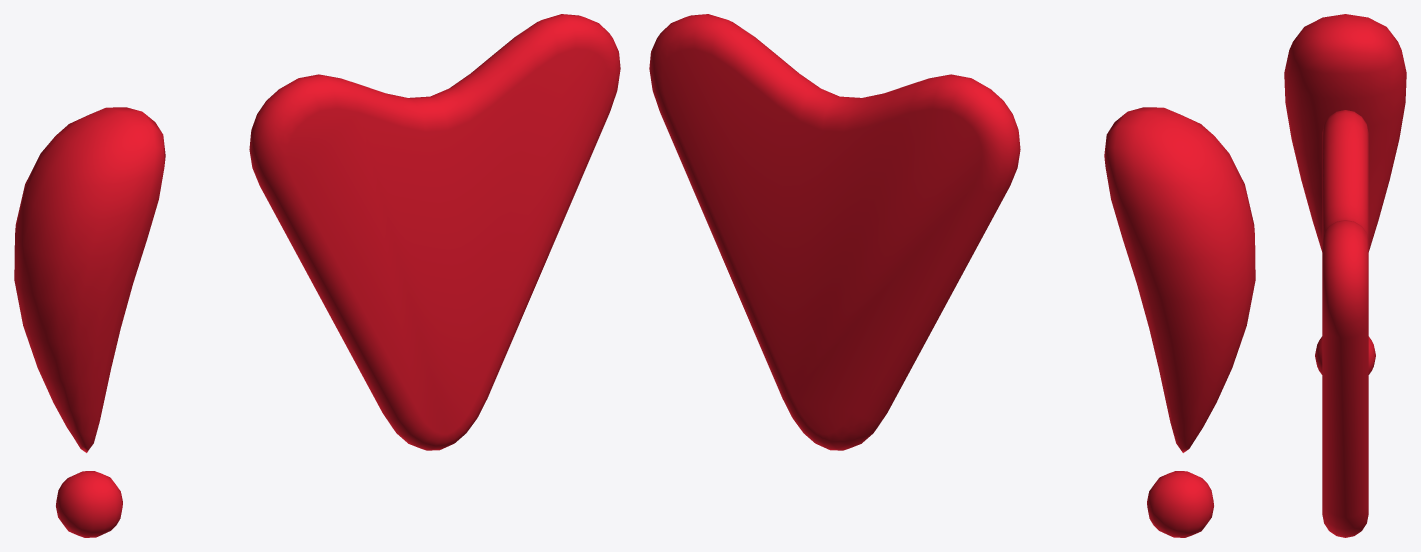
The model's file is Waiting Marks.fbx.
The picture shows the model from 3 angles, left to right: view 1: azimuth 30°, elevation 25°; view 2: azimuth 150°, elevation 25°; view 3: azimuth 270°, elevation 25°; orthographic projection. The views are drawn at different scales.
Visible parts, largest first — view 1: Arrow Mark, Exclamation Mark; view 2: Arrow Mark, Exclamation Mark; view 3: Arrow Mark, Exclamation Mark.
Boxes of the visible parts, x1,y1,x2,y2 form: Arrow Mark: (249,14,620,450); Exclamation Mark: (14,107,165,537); Arrow Mark: (649,14,1020,450); Exclamation Mark: (1104,107,1255,537); Arrow Mark: (1322,110,1368,537); Exclamation Mark: (1284,14,1406,374).
Bounding box in the file's own units: 293 × 195 × 57.49.
